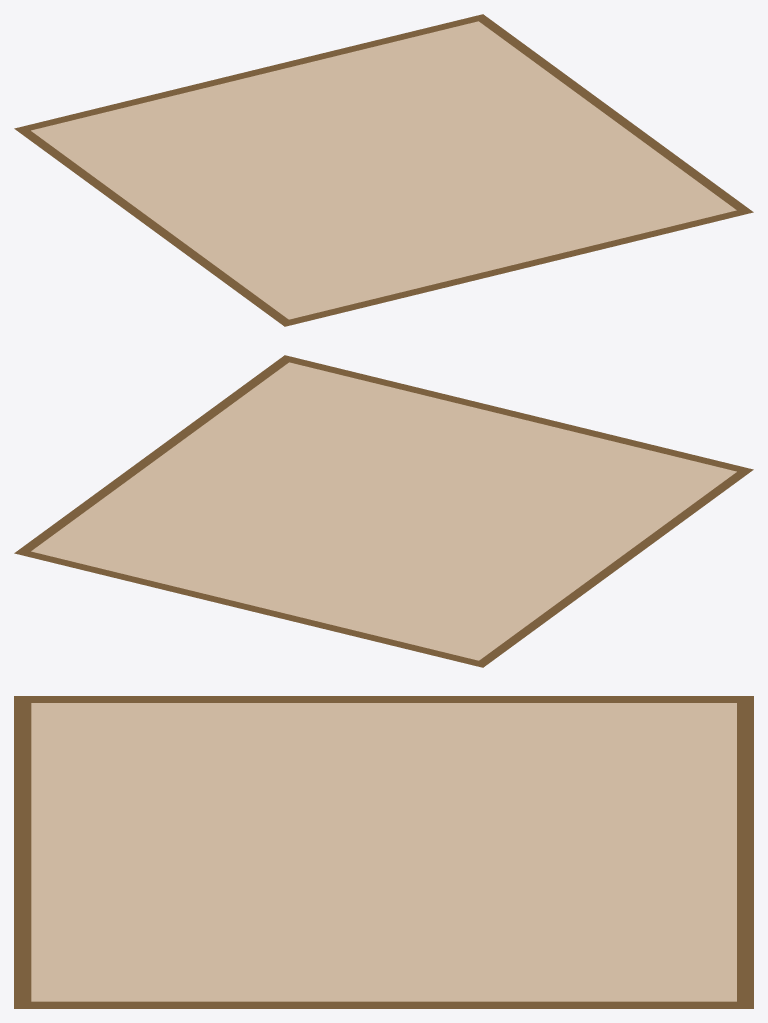
The model's file is quad.fbx.
The picture shows the model from 3 angles, top to bottom: view 1: azimuth 30°, elevation 25°; view 2: azimuth 150°, elevation 25°; view 3: azimuth 270°, elevation 25°; orthographic projection. The views are drawn at different scales.
Parts seen in each view (by area): view 1: Plane; view 2: Plane; view 3: Plane.
Part boxes in pixels (left/top/right/bottom): Plane: left=14, top=14, right=753, bottom=326; Plane: left=14, top=355, right=753, bottom=667; Plane: left=14, top=696, right=753, bottom=1008.
Bounding box in the file's own units: 200 × 3.26e-05 × 200.
